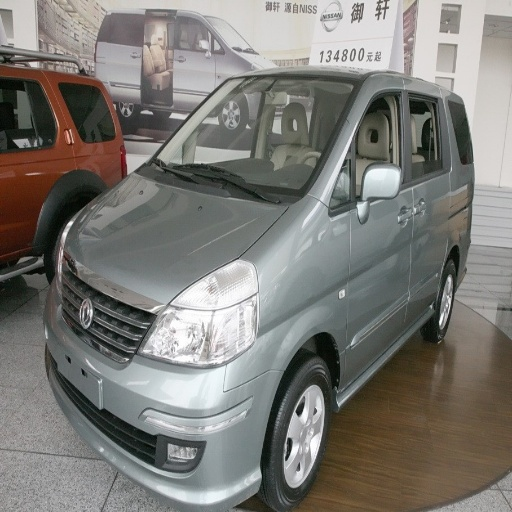front_bumper: (51, 305, 283, 511)
front_glass: (152, 74, 364, 202)
front_left_door: (328, 82, 413, 385)
